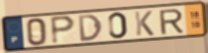0: (26, 17, 48, 47), (107, 12, 128, 40)
D: (77, 13, 104, 43)
K: (134, 10, 156, 37)
P: (49, 14, 77, 46)
R: (157, 8, 185, 36)
